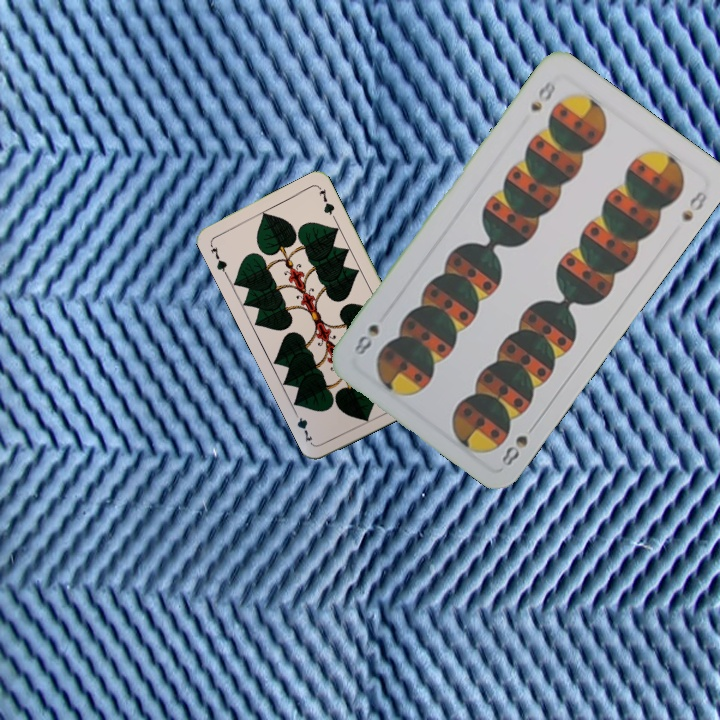G7: (206, 239, 230, 278)
S8: (497, 418, 540, 469), (526, 76, 560, 115)
